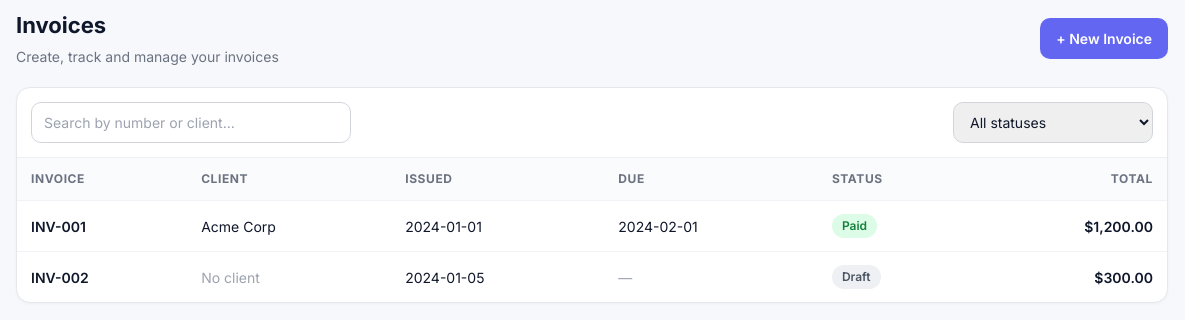
Scenario: filters by search text
Check: the text "INV-001" is shown, box [17,200,187,252]
Type "acme" into the field named "Search invoices" at (191, 122), box [31,102,351,143]
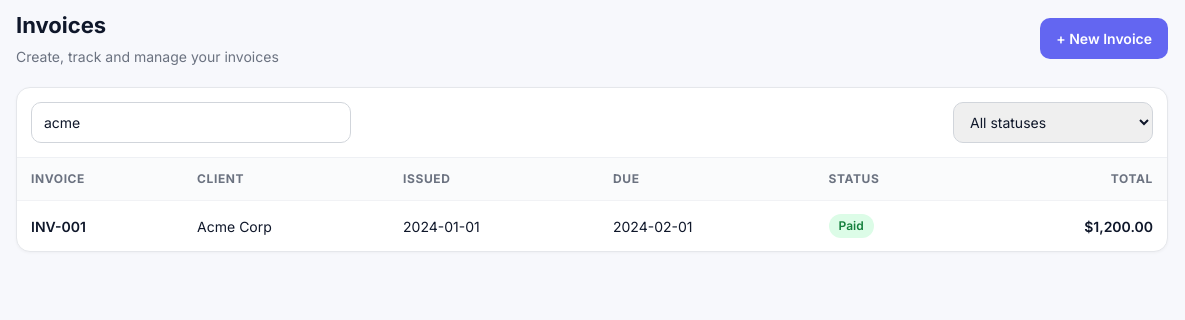
Check: the text "INV-001" is shown, box [17,200,183,251]
Check: the text "INV-002" is gone
